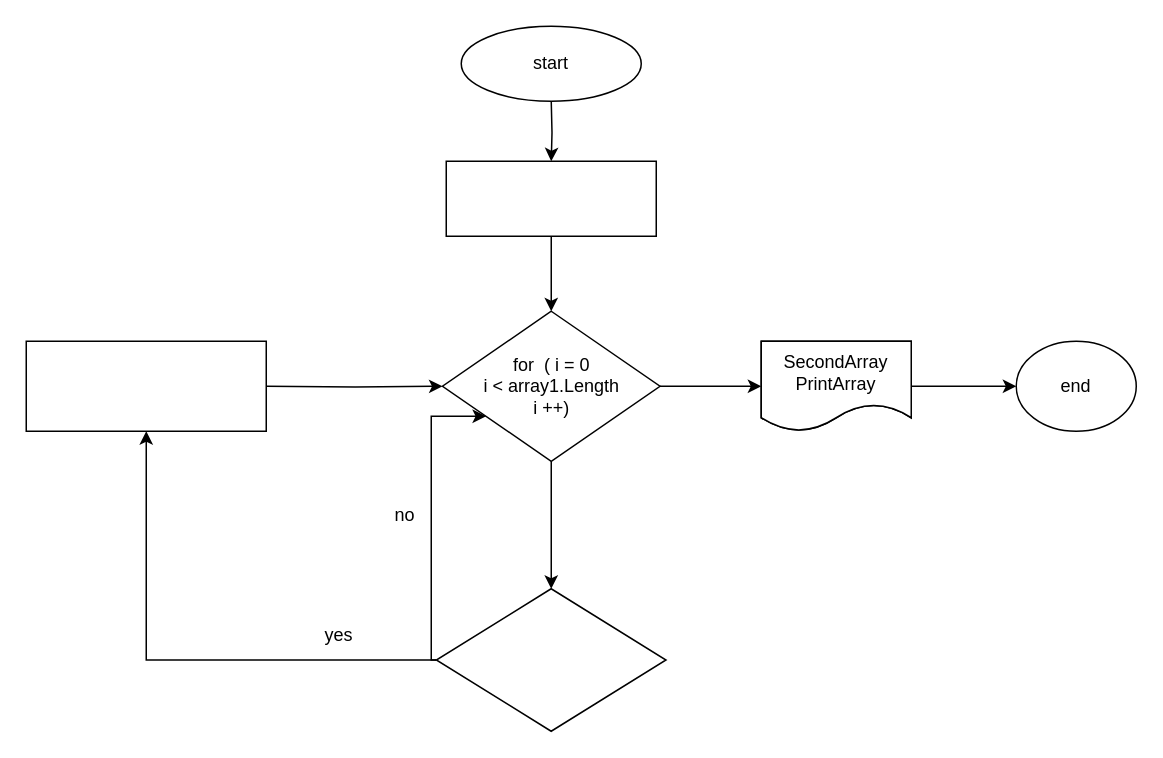
The diagram is 1163 pixels wide and 758 high, and some of its shapes have lost their labels. Here are the shapes that lost their labels. From the top down, the centre of each, then its label:
point (550, 198): string array 1 string array 2 count =0
point (145, 385): array2[coun]=array1[i] count ++
point (550, 659): if (array1[i].length<= 3)
